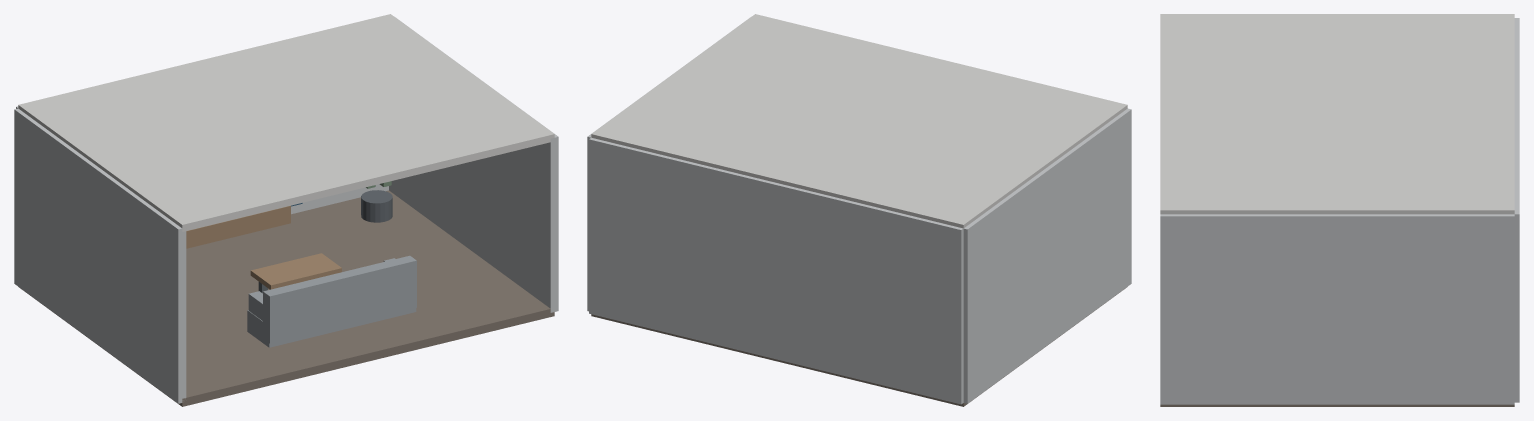
The model's file is hero-gesso.glb.
3 views of the same model, side by side, from view 1: azimuth 30°, elevation 25°; view 2: azimuth 150°, elevation 25°; view 3: azimuth 270°, elevation 25° (orthographic). The views are drawn at different scales.
Visible parts, largest first — view 1: hero-gesso_001, hero-gesso_000, hero-gesso_003, hero-gesso_004, hero-gesso_006, hero-gesso_014, hero-gesso_009, hero-gesso_005, hero-gesso_016, hero-gesso_002; view 2: hero-gesso_002, hero-gesso_001, hero-gesso_003, hero-gesso_000; view 3: hero-gesso_001, hero-gesso_004, hero-gesso_002, hero-gesso_000.
Boxes of the visible parts, <box> form: hero-gesso_001: <box>18,14,554,231</box>; hero-gesso_000: <box>19,190,554,406</box>; hero-gesso_003: <box>14,108,186,403</box>; hero-gesso_004: <box>389,17,558,312</box>; hero-gesso_006: <box>263,255,416,343</box>; hero-gesso_014: <box>186,205,290,248</box>; hero-gesso_009: <box>250,253,341,289</box>; hero-gesso_005: <box>247,308,416,347</box>; hero-gesso_016: <box>361,190,392,222</box>; hero-gesso_002: <box>16,106,388,214</box>; hero-gesso_002: <box>589,137,963,404</box>; hero-gesso_001: <box>591,14,1127,228</box>; hero-gesso_003: <box>963,108,1131,403</box>; hero-gesso_000: <box>591,287,1126,406</box>; hero-gesso_001: <box>1160,14,1514,214</box>; hero-gesso_004: <box>1160,214,1514,404</box>; hero-gesso_002: <box>1514,18,1519,402</box>; hero-gesso_000: <box>1160,404,1514,406</box>.
Bounding box in the file's own units: 7.76 × 3.55 × 5.88.
